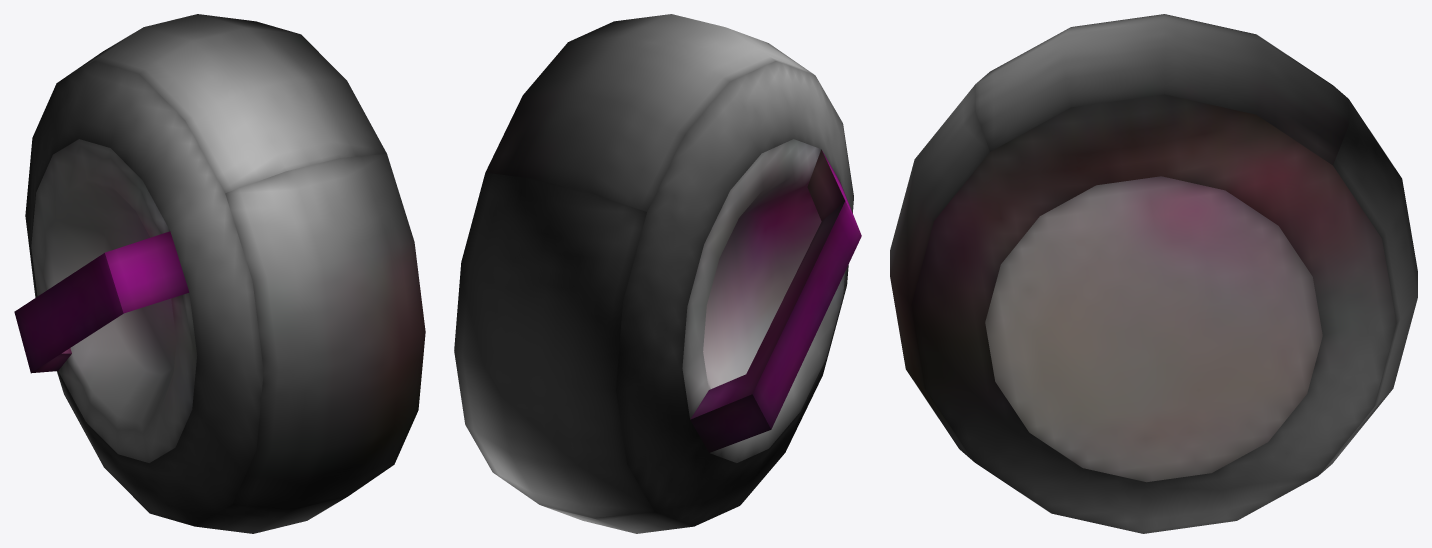
The model's file is rearright.obj.
3 views of the same model, side by side, from view 1: azimuth 30°, elevation 25°; view 2: azimuth 150°, elevation 25°; view 3: azimuth 270°, elevation 25° (orthographic).
Visible parts, largest first — view 1: Object012; view 2: Object012; view 3: Object012.
Part boxes in pixels (x1=…): Object012: x1=14, y1=14, x2=425, y2=533; Object012: x1=454, y1=14, x2=861, y2=533; Object012: x1=890, y1=14, x2=1417, y2=533.
Size of the model in its own units: 5.4 by 9.07 by 9.07.
Materials: 1 (1 with a texture image).
